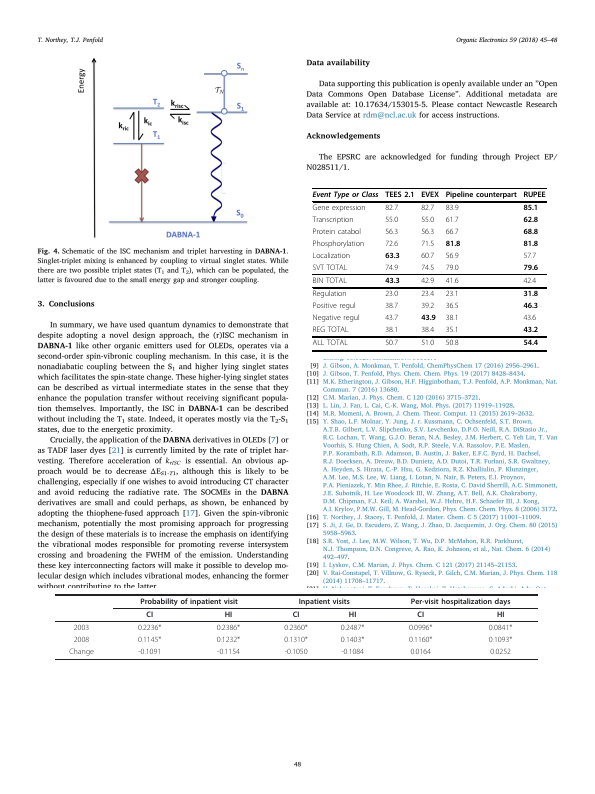borderless: (311, 187, 546, 350), (55, 593, 538, 659)
cell: (410, 597, 511, 606), (139, 597, 239, 606), (445, 191, 518, 200), (312, 191, 379, 200), (312, 204, 366, 214), (312, 240, 365, 250), (312, 228, 362, 238), (312, 314, 361, 324), (298, 597, 351, 606), (312, 302, 357, 312), (312, 216, 354, 226), (312, 252, 351, 262), (312, 326, 349, 336), (312, 277, 348, 287), (312, 290, 348, 300), (312, 340, 349, 349), (312, 264, 348, 273), (384, 191, 415, 200), (68, 647, 95, 657), (283, 623, 309, 633), (283, 635, 309, 645), (137, 623, 162, 633), (216, 623, 241, 633), (340, 623, 365, 633), (408, 623, 433, 633), (488, 623, 513, 633), (137, 635, 162, 645), (216, 635, 241, 645), (340, 635, 365, 645), (408, 635, 433, 645), (488, 635, 513, 645), (137, 647, 162, 657), (216, 647, 241, 657), (340, 647, 365, 657), (284, 647, 308, 657), (409, 647, 432, 657), (489, 647, 512, 657), (522, 191, 547, 200), (420, 191, 440, 200), (522, 290, 539, 300), (522, 302, 539, 312), (420, 314, 437, 324), (522, 326, 539, 336), (73, 623, 90, 633), (73, 635, 90, 645), (522, 204, 539, 213), (522, 216, 539, 225), (522, 228, 539, 237), (522, 240, 539, 249), (384, 252, 401, 261), (522, 264, 539, 273), (384, 277, 401, 286), (522, 340, 539, 349), (384, 204, 399, 214), (420, 204, 435, 214), (384, 216, 399, 226), (420, 216, 435, 226), (384, 228, 399, 238), (420, 228, 435, 238), (384, 240, 399, 250), (420, 240, 435, 250), (420, 252, 435, 262), (522, 252, 537, 262), (420, 277, 435, 287), (522, 277, 537, 287), (384, 290, 399, 300), (420, 290, 435, 300), (384, 302, 399, 312), (420, 302, 435, 312), (384, 314, 399, 324), (522, 314, 537, 324), (384, 326, 399, 336), (420, 326, 435, 336), (445, 240, 461, 249), (445, 204, 459, 214), (445, 216, 459, 226), (445, 228, 459, 238), (445, 252, 459, 262), (445, 277, 459, 287), (445, 290, 459, 300), (445, 302, 459, 312), (445, 314, 459, 324), (445, 326, 459, 336), (384, 264, 399, 273), (420, 264, 435, 273), (384, 340, 399, 349), (420, 340, 435, 349), (445, 264, 459, 273), (445, 340, 459, 349), (145, 610, 154, 620), (224, 610, 233, 620), (348, 610, 357, 620), (416, 610, 425, 620), (496, 610, 505, 620), (292, 610, 300, 620)
